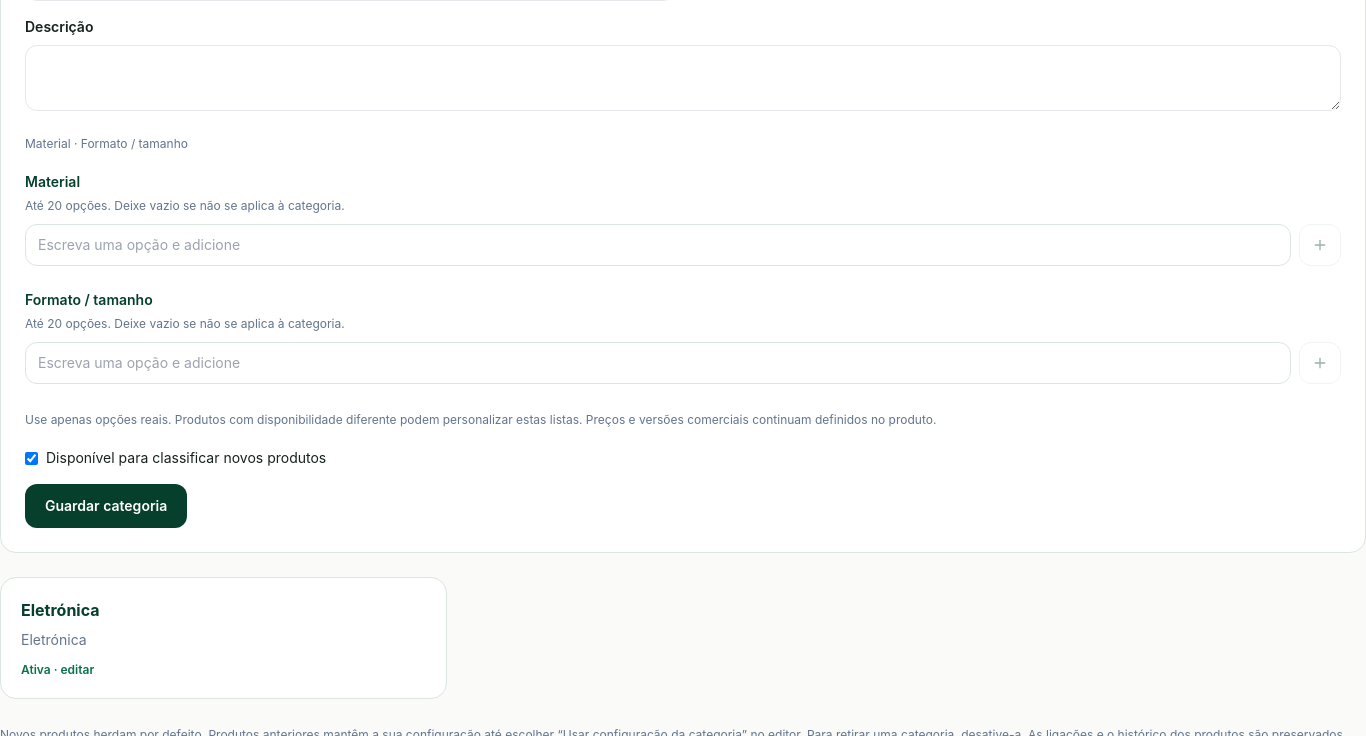
Test: Product category settings › edits the template and archives a category without touching product records
The image size is (1366, 736).
(page scrolled)
Click the button "Eletrónica Eletrónica Ativa · editar" at (60, 610), box [0,577,447,699]
(page scrolled)
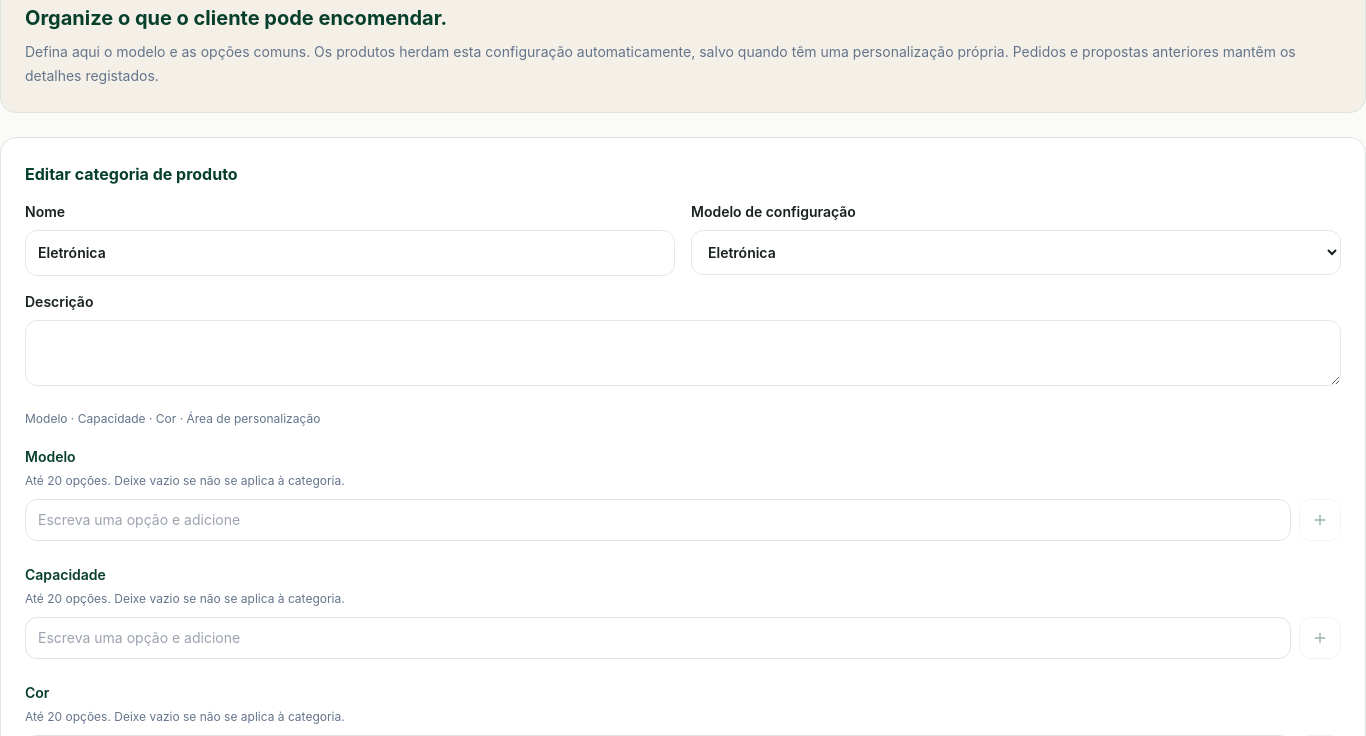
Now the dropdown labelled "Modelo de configuração" shows "Eletrónica"
Select "Banners e sinalética" in the dropdown labelled "Modelo de configuração" at (1016, 252), box [691,230,1341,275]
(page scrolled)
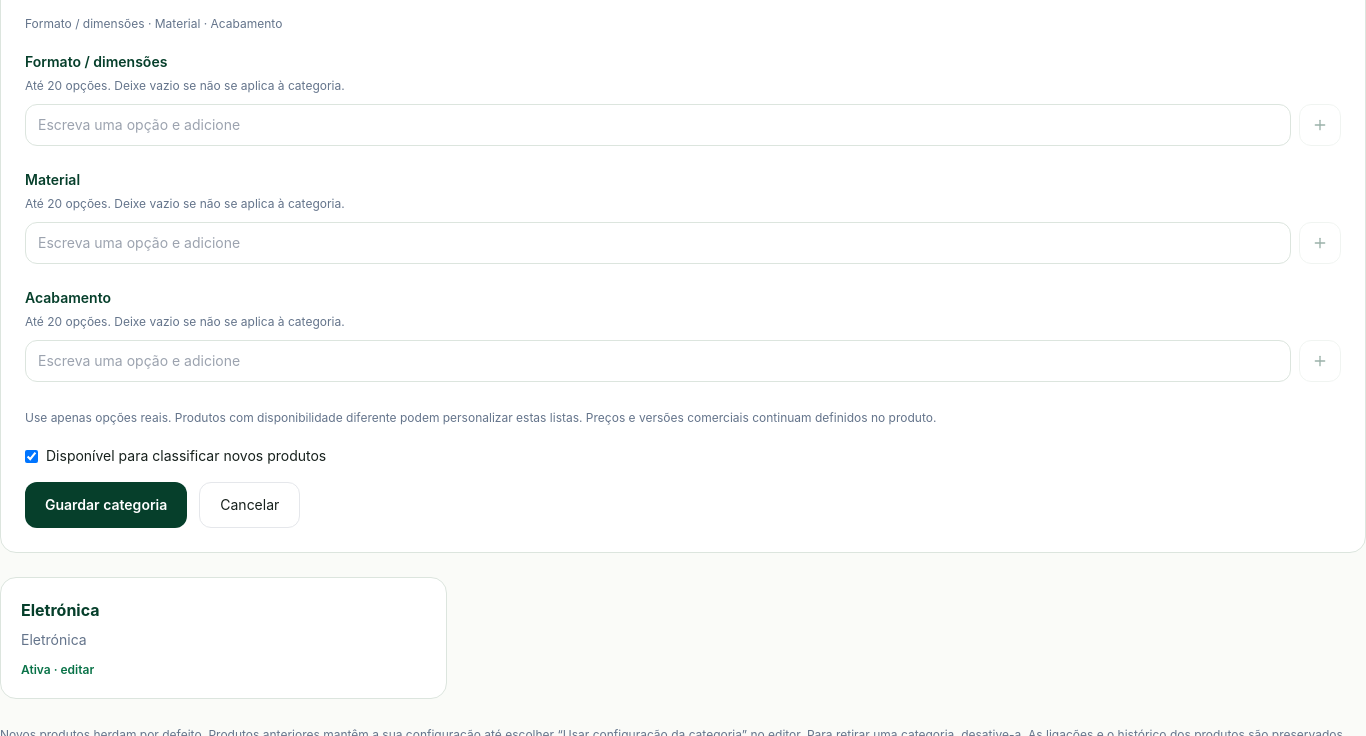
Click the checkbox at (32, 456), box [25,450,38,462]
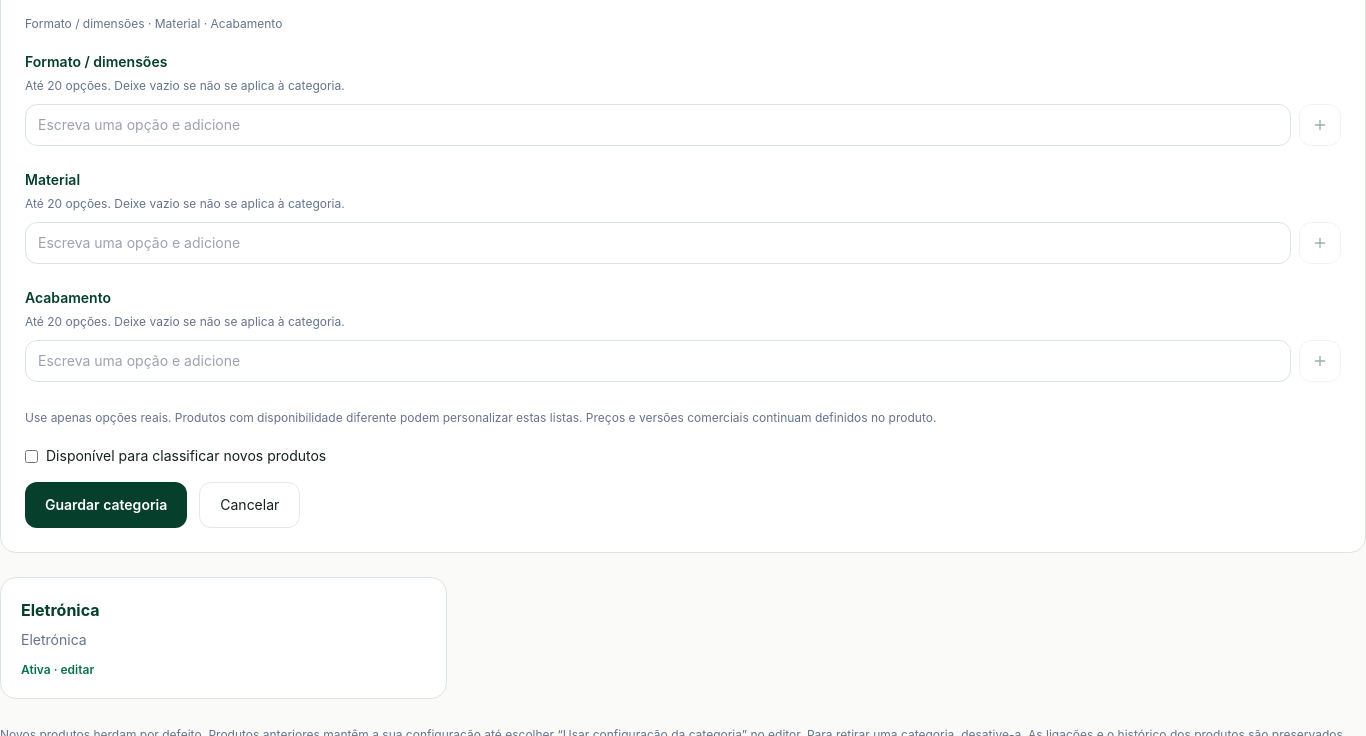
Click the button "Guardar categoria" at (106, 505), box [25,482,187,528]
(page scrolled)
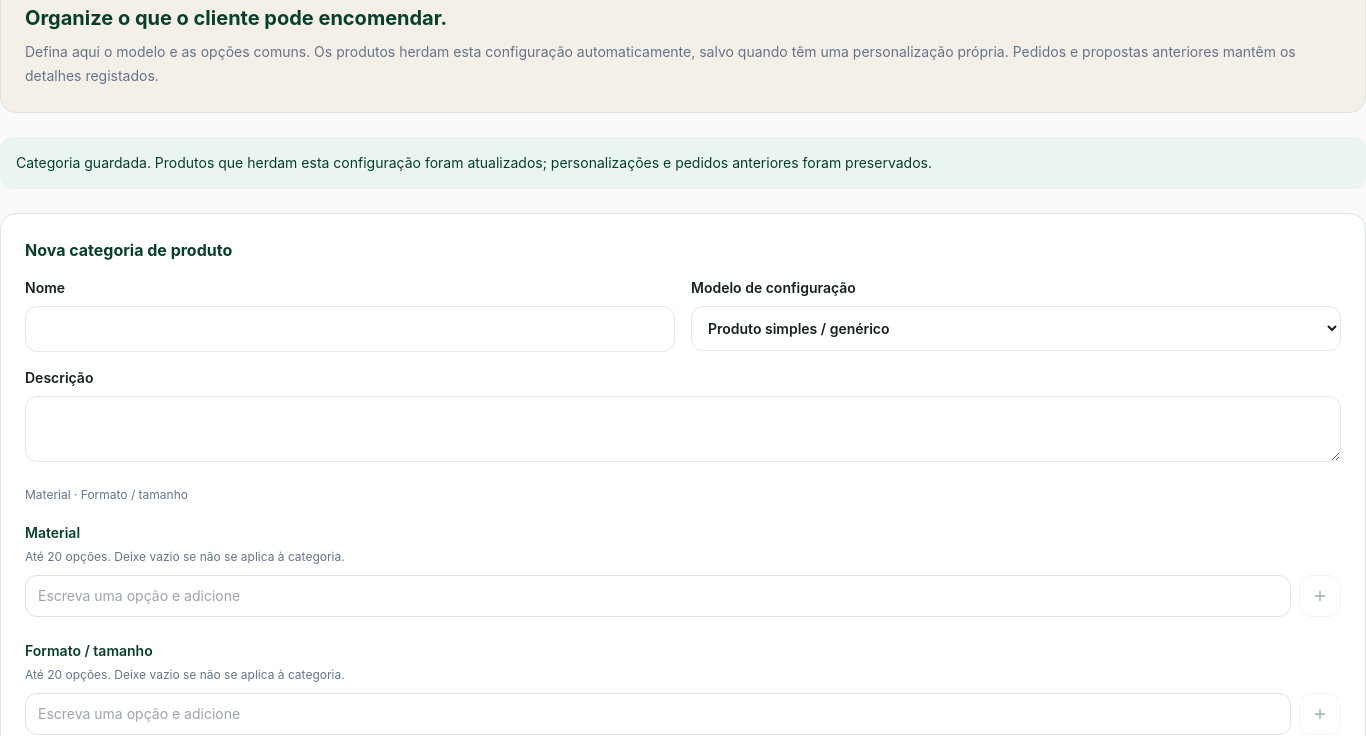
Now the message shows "Produtos que herdam esta configuração foram atualizados", box [16,154,932,171]
